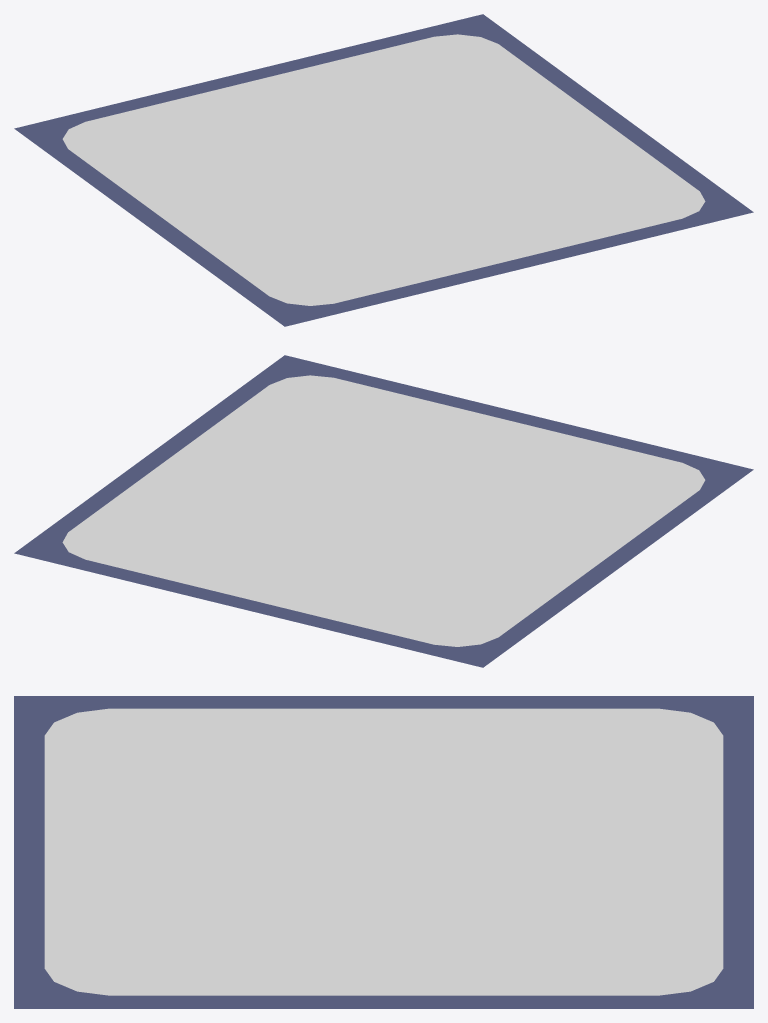
The model's file is Cell.fbx.
3 renders of one model, top to bottom at view 1: azimuth 30°, elevation 25°; view 2: azimuth 150°, elevation 25°; view 3: azimuth 270°, elevation 25°, orthographic. The views are drawn at different scales.
Visible parts, largest first — view 1: Cell; view 2: Cell; view 3: Cell.
Boxes of the visible parts, x1,y1,x2,y2 form: Cell: (14, 14, 753, 326); Cell: (14, 355, 753, 667); Cell: (14, 696, 753, 1008).
Size of the model in its own units: 1 by 0.000516 by 1.
